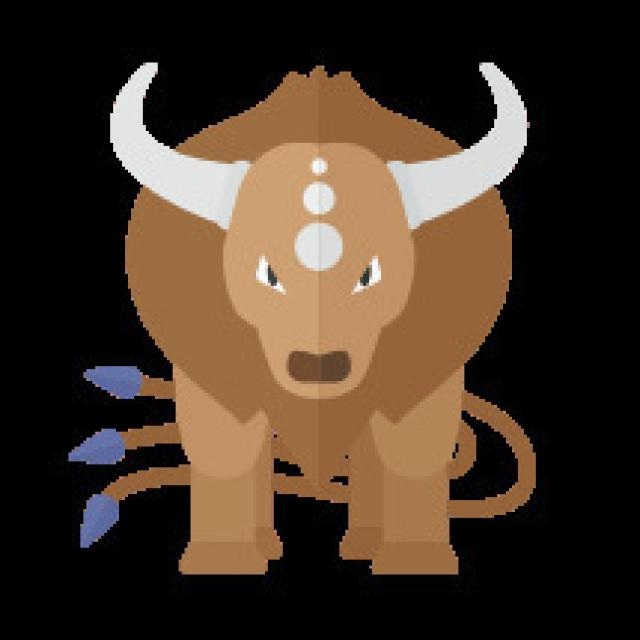Tauros: (108, 57, 532, 577)
